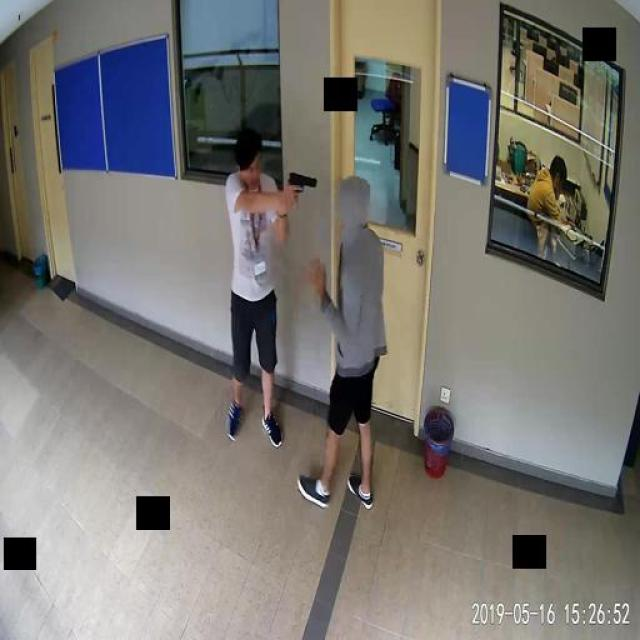gun: (286, 168, 315, 204)
